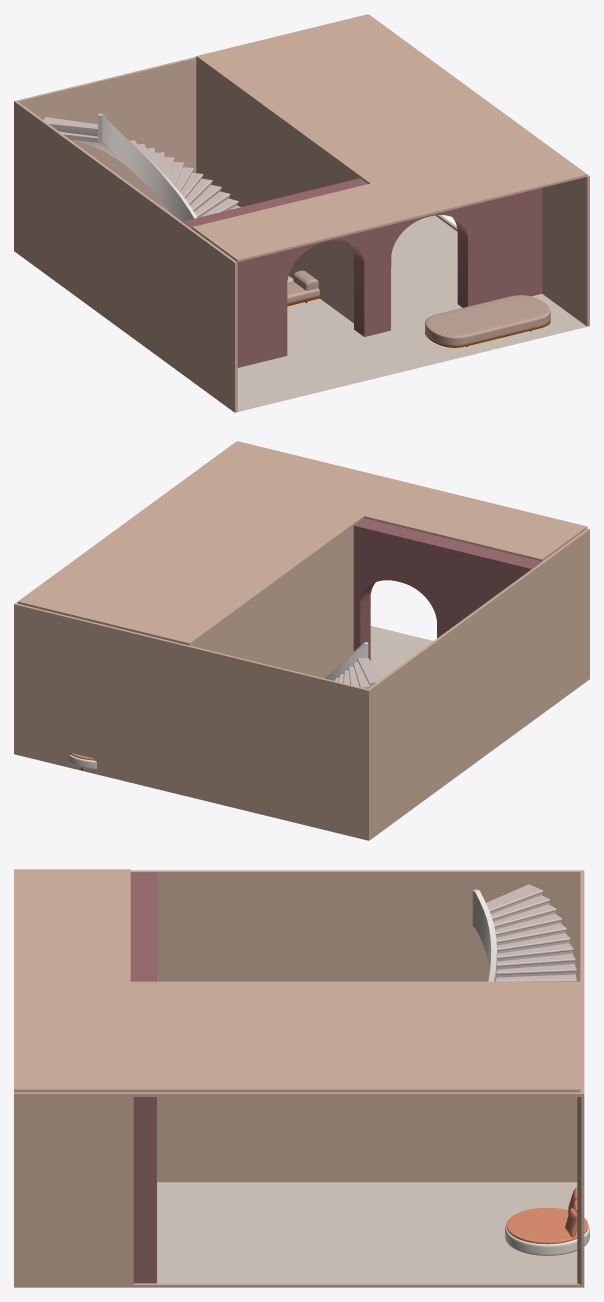
Rendered from lobby.glb.
3 views of the same model, one above another, from view 1: azimuth 30°, elevation 25°; view 2: azimuth 150°, elevation 25°; view 3: azimuth 270°, elevation 25° (orthographic). The views are drawn at different scales.
Parts seen in each view (by area): view 1: Circle; view 2: Circle; view 3: Circle.
Part boxes in pixels (left/top/right/bottom): Circle: left=14, top=14, right=589, bottom=412; Circle: left=14, top=441, right=589, bottom=840; Circle: left=14, top=869, right=589, bottom=1287.
Size of the model in its own units: 16.09 by 6.96 by 17.51.
